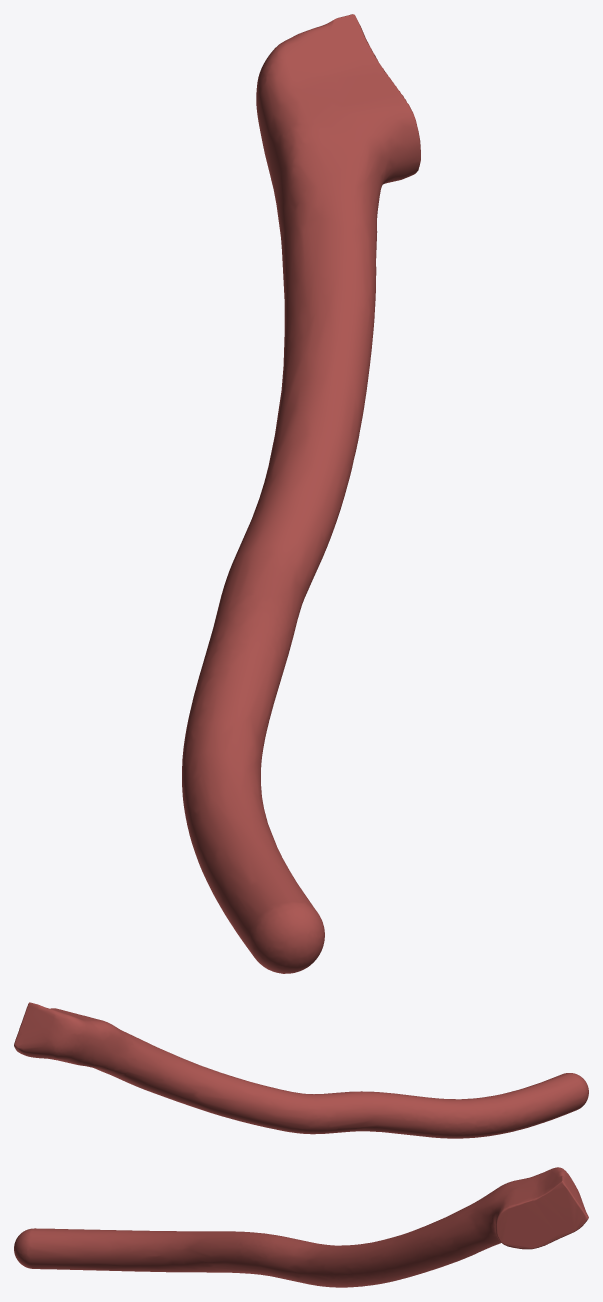
File: FMA50875.glb
3 renders of one model, top to bottom at view 1: azimuth 30°, elevation 25°; view 2: azimuth 150°, elevation 25°; view 3: azimuth 270°, elevation 25°, orthographic. The views are drawn at different scales.
Parts seen in each view (by area): view 1: FMA50875; view 2: FMA50875; view 3: FMA50875.
Boxes of the visible parts, x1=… form: FMA50875: x1=182, y1=14, x2=420, y2=973; FMA50875: x1=14, y1=1002, x2=588, y2=1138; FMA50875: x1=14, y1=1167, x2=588, y2=1287.
Size of the model in its own units: 0.0302 by 0.0209 by 0.0468.
